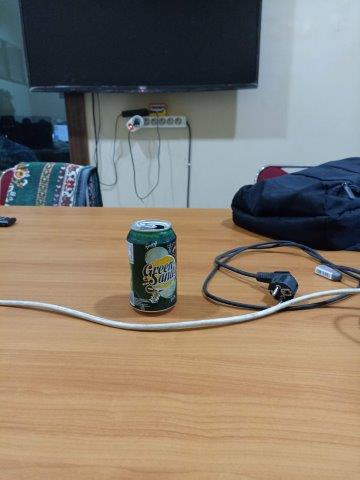kaleng: (126, 219, 178, 314)
